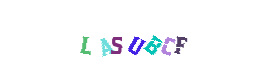A: (74, 0, 154, 80)
B: (107, 0, 187, 80)
C: (113, 0, 193, 80)
F: (119, 0, 199, 80)
L: (45, 0, 125, 80)
S: (92, 0, 172, 80)
U: (95, 0, 175, 80)
